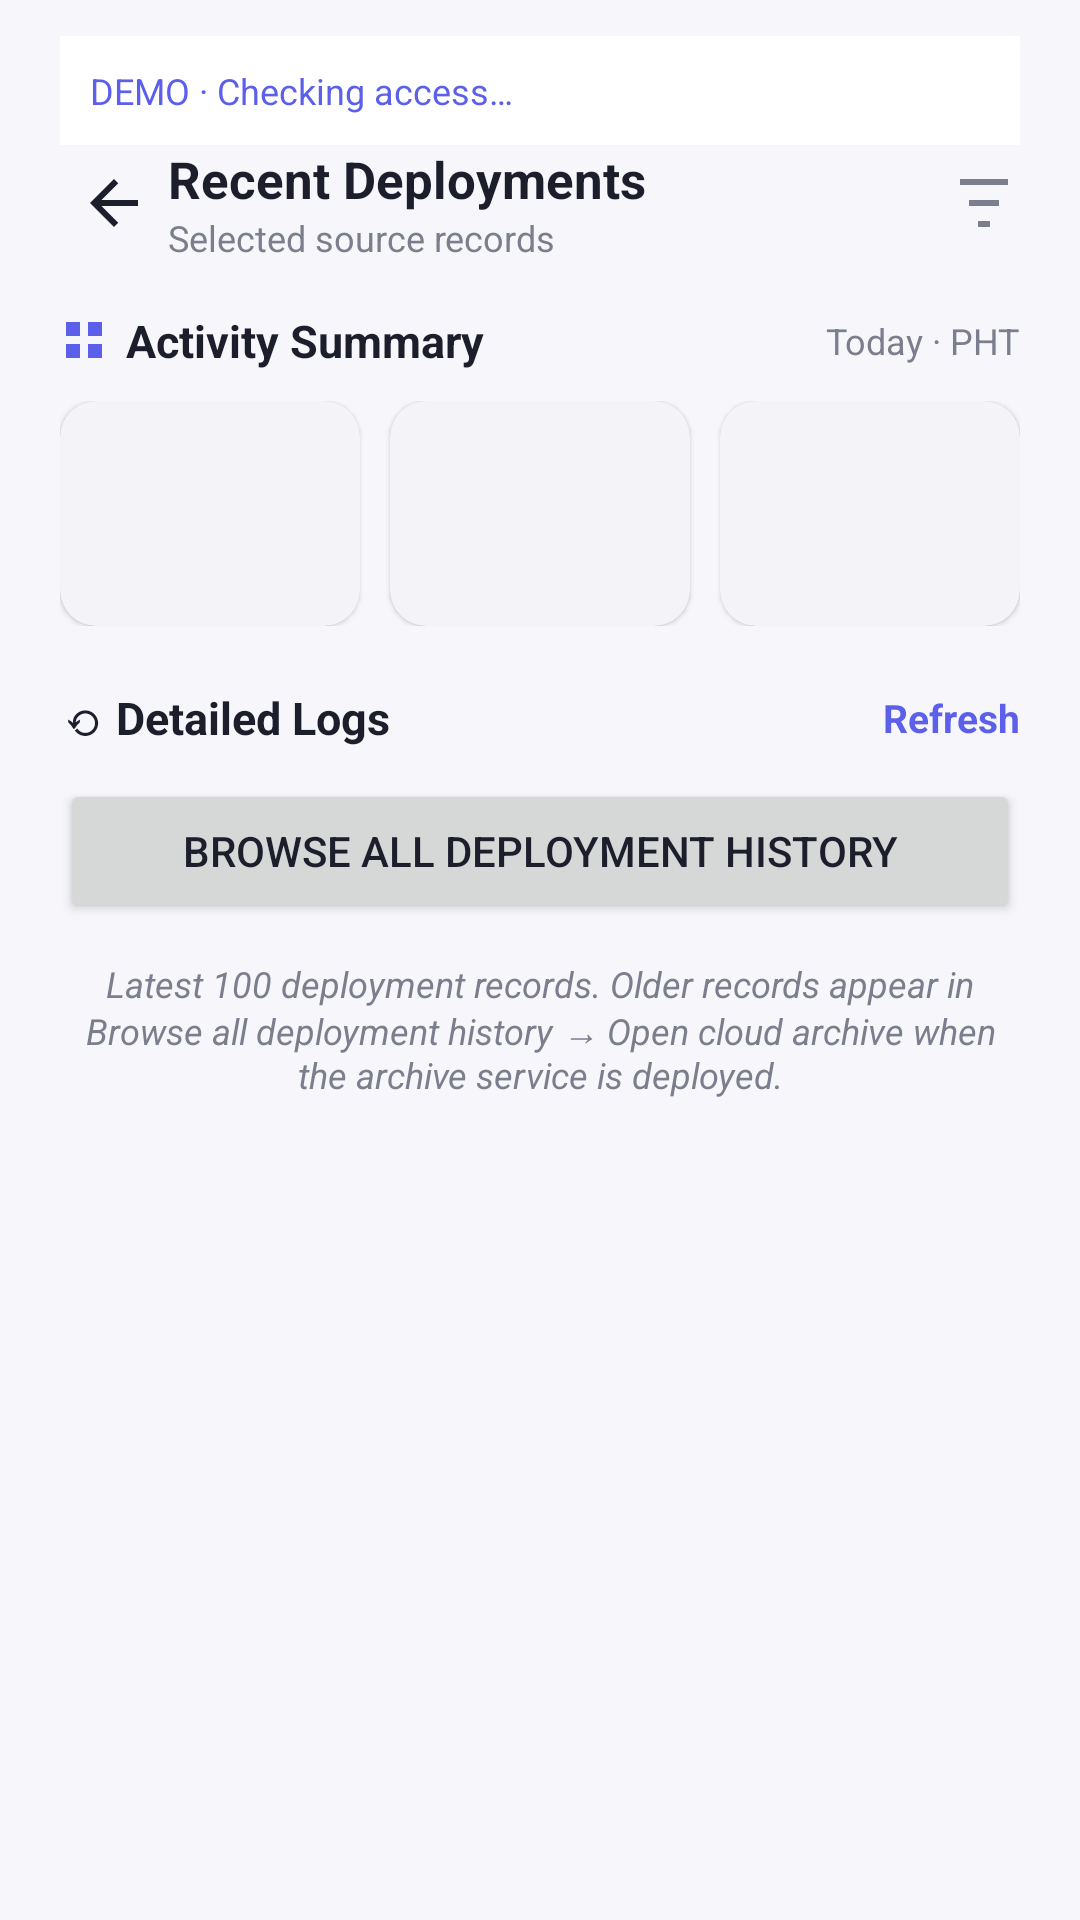

Named icons in this screenshot (1080px x 1920px) and their centers, point (x, y):
Back: point (114, 203)
Filter: point (984, 203)
grid view: point (84, 340)
